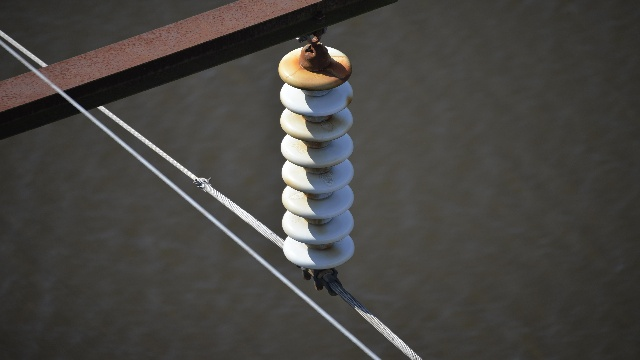insulator_unspecified: (275, 45, 359, 270)
pollution_flashover_local: (317, 172, 337, 188), (320, 119, 334, 131)
